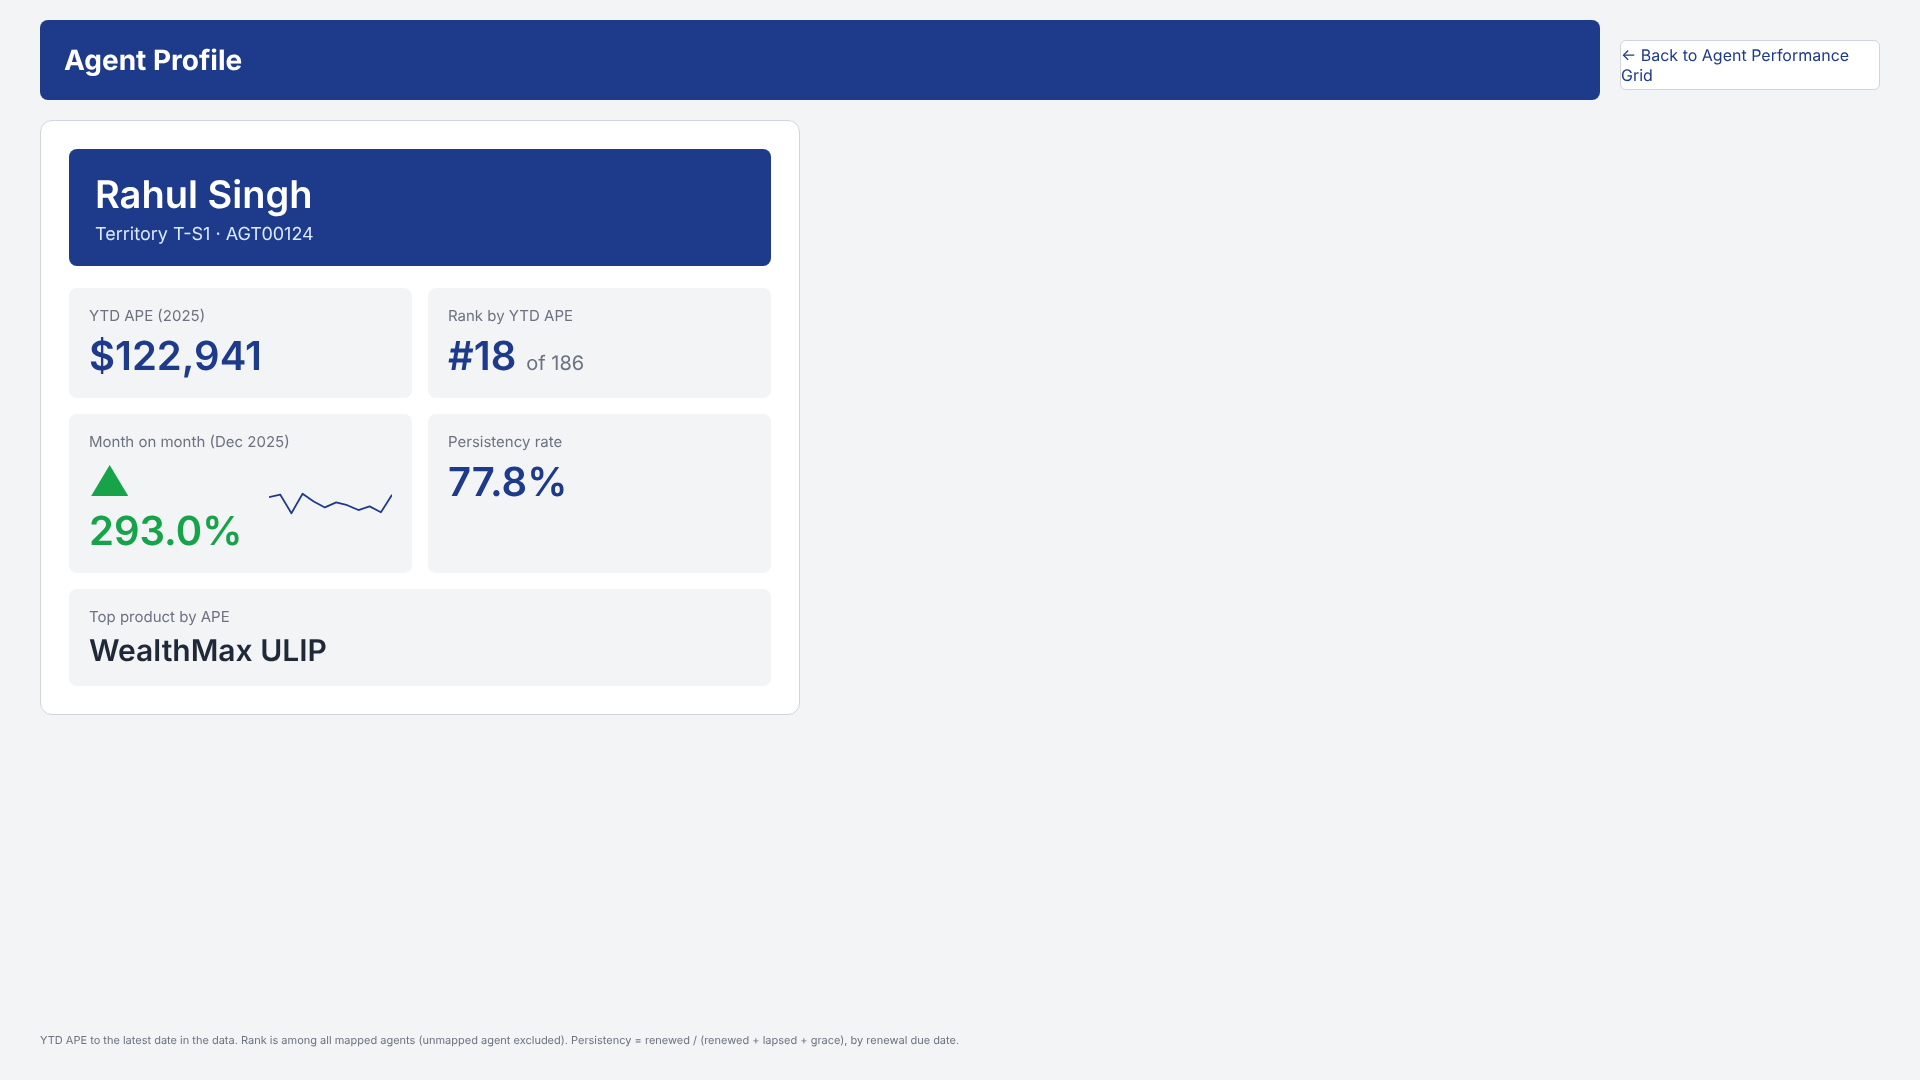

This screenshot's page, from the dashboard's own definition file:
{"tool":"powerbi","page":{"name":"Agent Profile Card","canvas":[1920,1080],"ordinal":2},"visuals":[{"type":"htmlContent443BE3AD55E043BF878BED274D3A6865","fields":{"content":["_Measures.Agent Card HTML"]},"box":[40,120,760,640],"z":0},{"type":"actionButton","box":[1620,40,260,50],"z":1000},{"type":"textbox","box":[40,20,1560,80],"z":2000},{"type":"textbox","box":[1620,120,260,640],"z":3000},{"type":"slicer","fields":{"Values":["dim_agent.agent_label"]},"box":[820,120,360,70],"z":3500},{"type":"textbox","box":[40,1020,1840,40],"z":4000}]}

Visuals, with their boxes in screenshot pixels (x1, y1, x2, y2), scaled from the page's 1920x1080 canvas onto the 1920x1080 screenshot:
htmlContent443BE3AD55E043BF878BED274D3A6865 - _Measures.Agent Card HTML: region(40, 120, 800, 760)
actionButton: region(1620, 40, 1880, 90)
textbox: region(40, 20, 1600, 100)
textbox: region(1620, 120, 1880, 760)
slicer - dim_agent.agent_label: region(820, 120, 1180, 190)
textbox: region(40, 1020, 1880, 1060)
